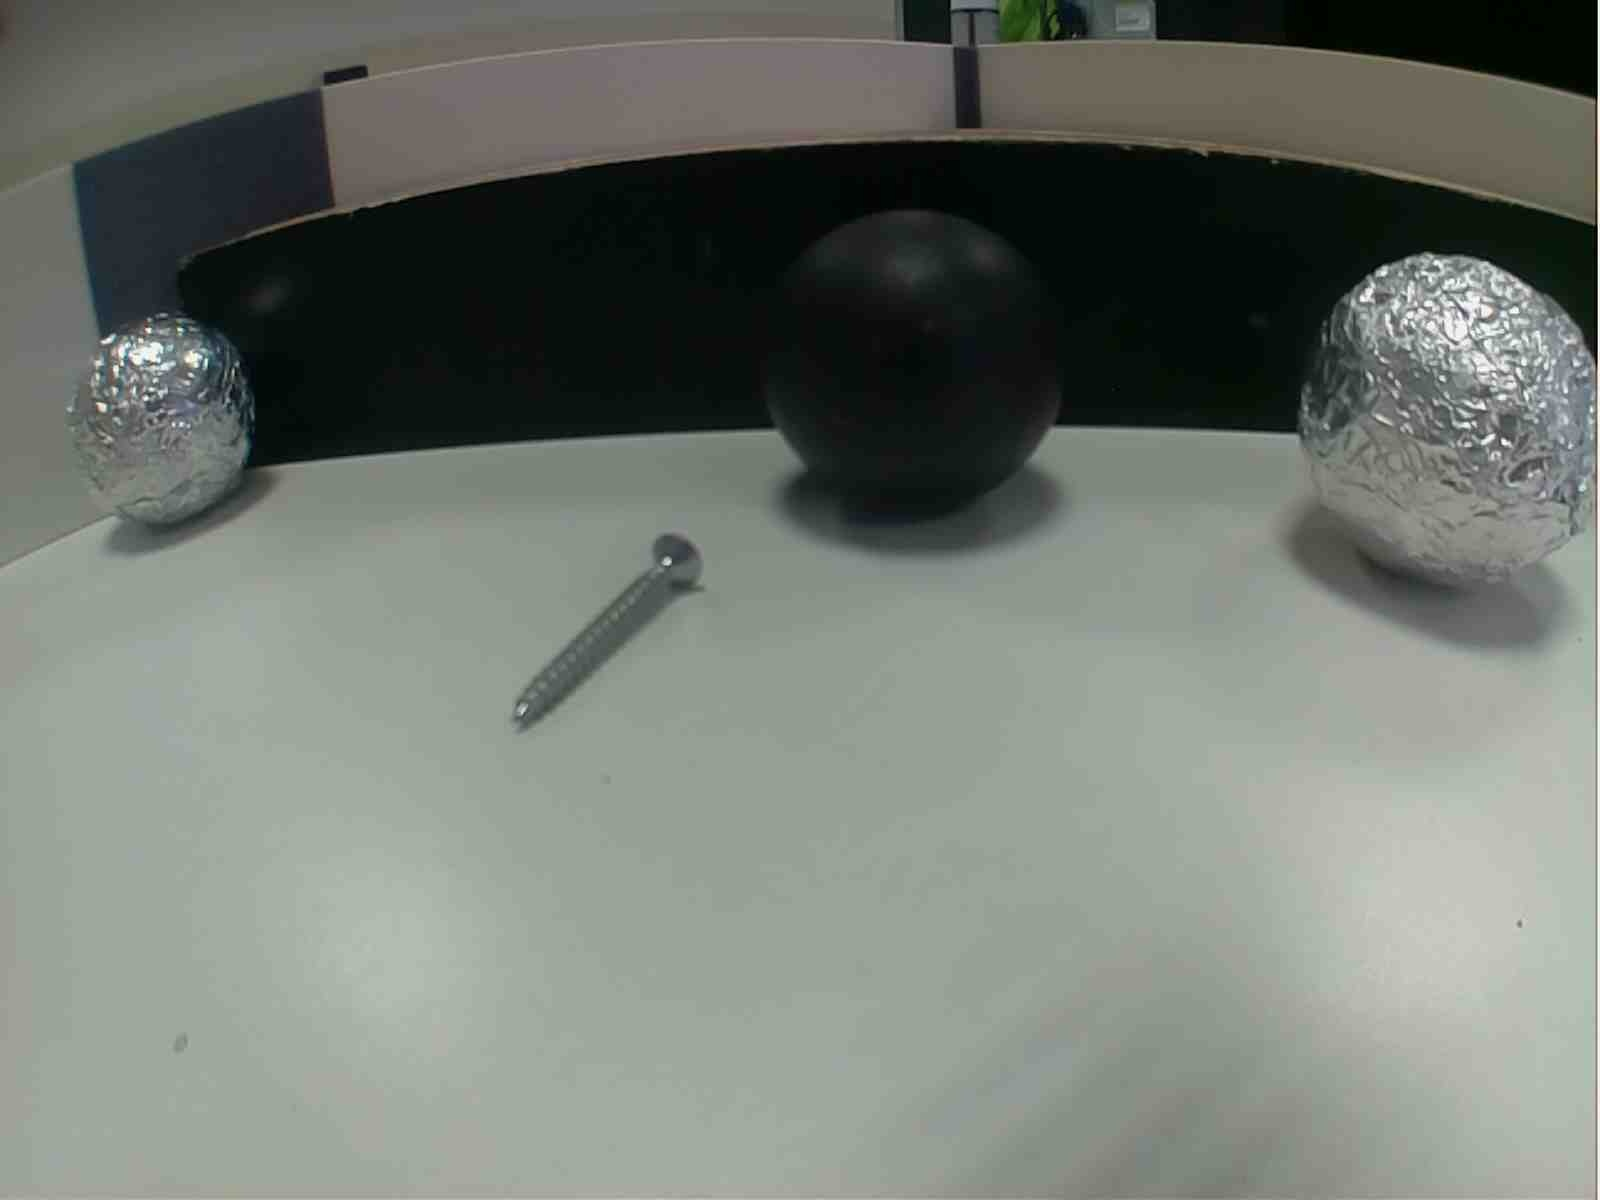bianca: (1283, 239, 1600, 613), (63, 308, 257, 529)
nera: (766, 195, 1053, 529)
